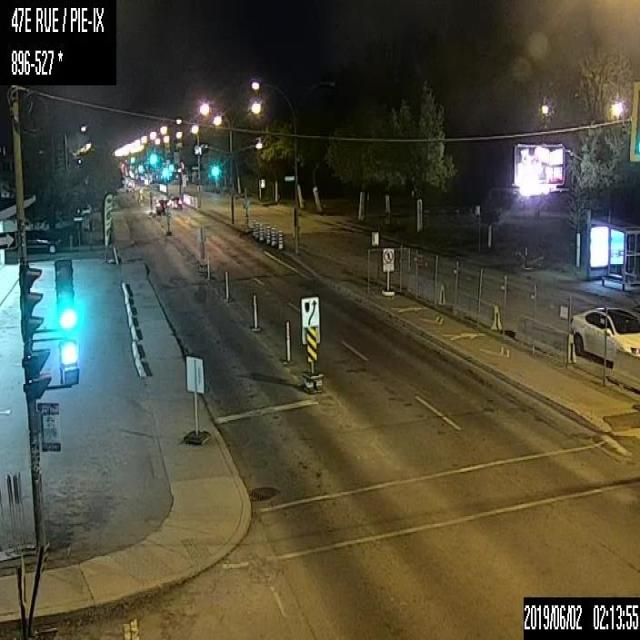construction: (278, 319, 294, 364), (206, 255, 211, 281), (253, 294, 257, 326), (254, 222, 259, 240), (251, 218, 256, 236), (258, 223, 263, 241), (270, 227, 275, 245), (225, 270, 228, 298), (278, 230, 282, 248), (266, 226, 270, 244)
vehicle: (569, 301, 639, 364), (26, 230, 59, 252), (154, 196, 168, 214), (168, 194, 182, 209)
